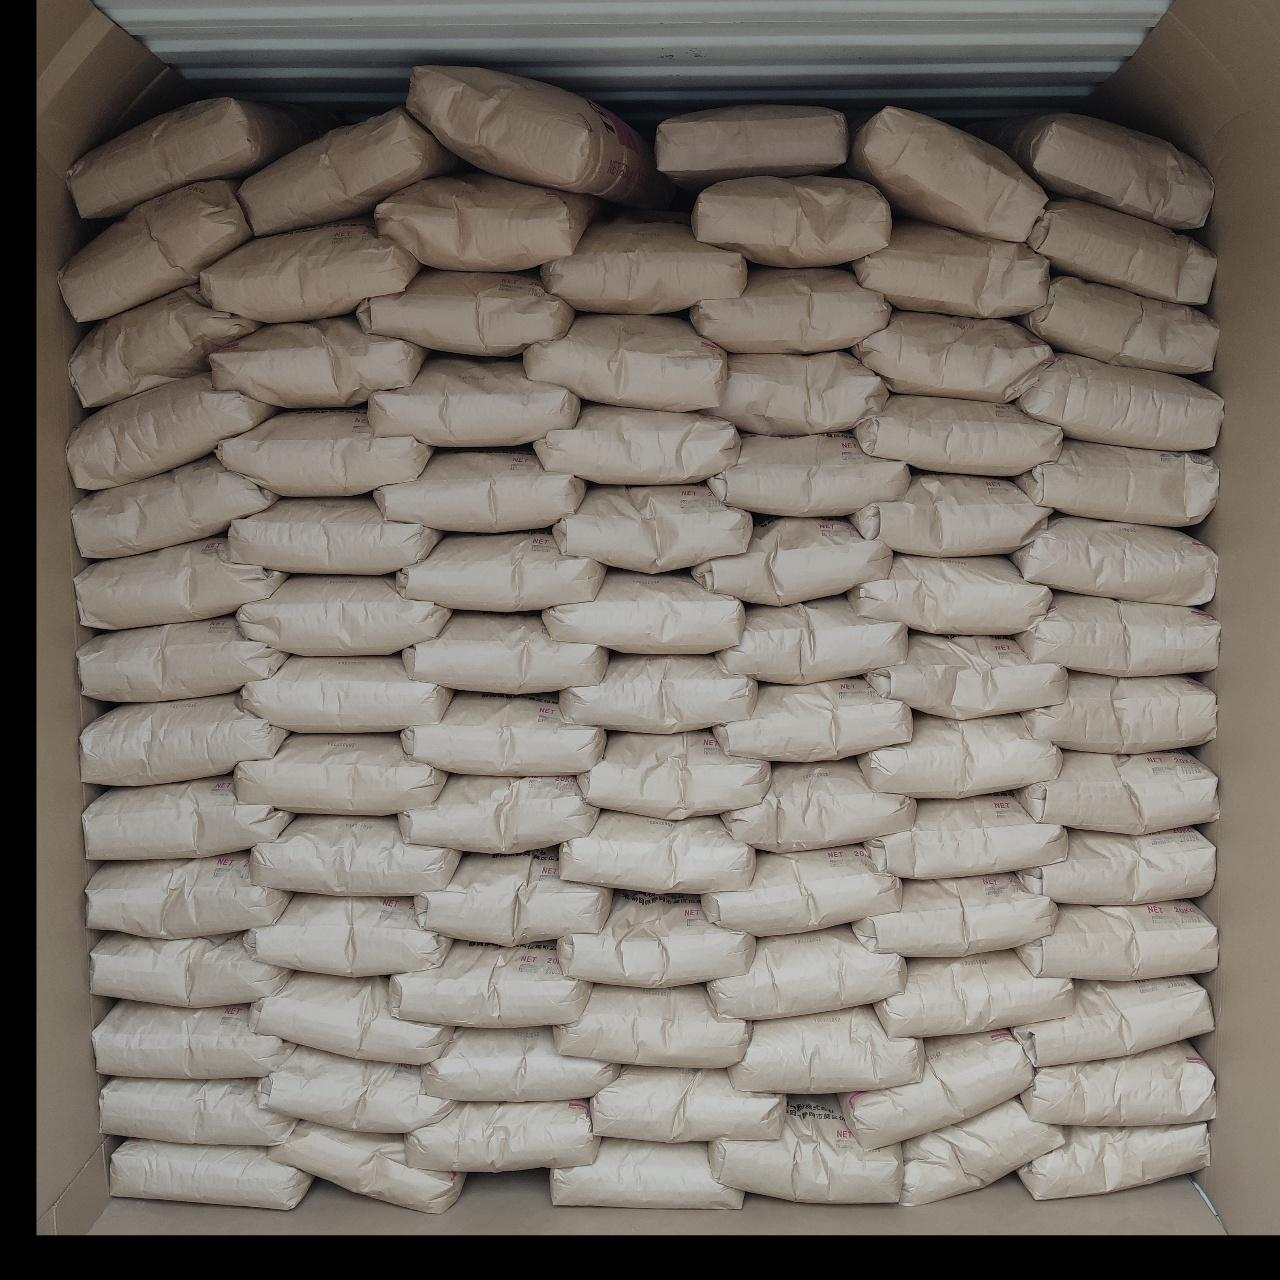sack: (408, 66, 668, 204), (66, 98, 308, 215), (240, 108, 458, 234), (60, 181, 250, 318), (988, 114, 1212, 229), (847, 108, 1044, 238), (68, 374, 272, 486), (70, 288, 258, 406), (844, 1030, 1030, 1148), (376, 172, 600, 270), (200, 220, 418, 318), (74, 456, 274, 556), (710, 1098, 903, 1201), (1016, 352, 1223, 445), (76, 536, 284, 628), (542, 216, 744, 309), (212, 316, 425, 406), (852, 220, 1046, 318), (1020, 275, 1216, 372), (1030, 200, 1214, 302), (356, 270, 572, 356), (370, 356, 578, 445), (1012, 516, 1214, 606), (524, 316, 726, 406), (82, 694, 286, 782), (558, 894, 753, 986), (218, 410, 430, 493), (710, 926, 903, 1017), (416, 852, 610, 942), (1014, 978, 1212, 1065), (252, 974, 450, 1062), (270, 1122, 462, 1212), (1016, 440, 1216, 526), (704, 846, 900, 934), (80, 617, 286, 700), (898, 1099, 1062, 1204), (855, 312, 1050, 399), (694, 176, 890, 263), (376, 448, 583, 530), (876, 949, 1070, 1036), (84, 776, 290, 858), (554, 486, 750, 572), (694, 518, 890, 604), (236, 734, 445, 813), (722, 760, 912, 847), (866, 634, 1062, 719), (866, 794, 1062, 878), (258, 1046, 454, 1130), (238, 576, 448, 654), (250, 816, 459, 894), (690, 268, 890, 350), (860, 714, 1060, 796), (246, 894, 450, 974), (856, 874, 1054, 956), (536, 404, 738, 484), (402, 694, 604, 774), (404, 612, 606, 692), (730, 1008, 920, 1092), (710, 434, 908, 515), (852, 474, 1046, 556), (88, 855, 286, 934), (390, 942, 588, 1022), (544, 572, 742, 652), (856, 396, 1060, 474), (1022, 1042, 1214, 1124), (240, 656, 450, 731), (580, 731, 765, 816), (399, 532, 604, 608), (1016, 594, 1218, 672), (556, 986, 750, 1065), (560, 812, 754, 892), (230, 498, 438, 572), (719, 598, 906, 680), (714, 680, 910, 758), (1017, 753, 1216, 830), (560, 654, 756, 731), (850, 556, 1048, 632), (400, 776, 595, 852), (94, 1002, 290, 1078), (658, 105, 846, 184), (1022, 674, 1214, 750), (1017, 903, 1216, 976), (1020, 828, 1214, 903), (91, 932, 288, 1006), (710, 352, 886, 434), (592, 1068, 784, 1141), (1020, 1124, 1206, 1198), (422, 1028, 614, 1099), (110, 1141, 309, 1206), (408, 1102, 598, 1170), (552, 1138, 742, 1206), (102, 1078, 294, 1142)
